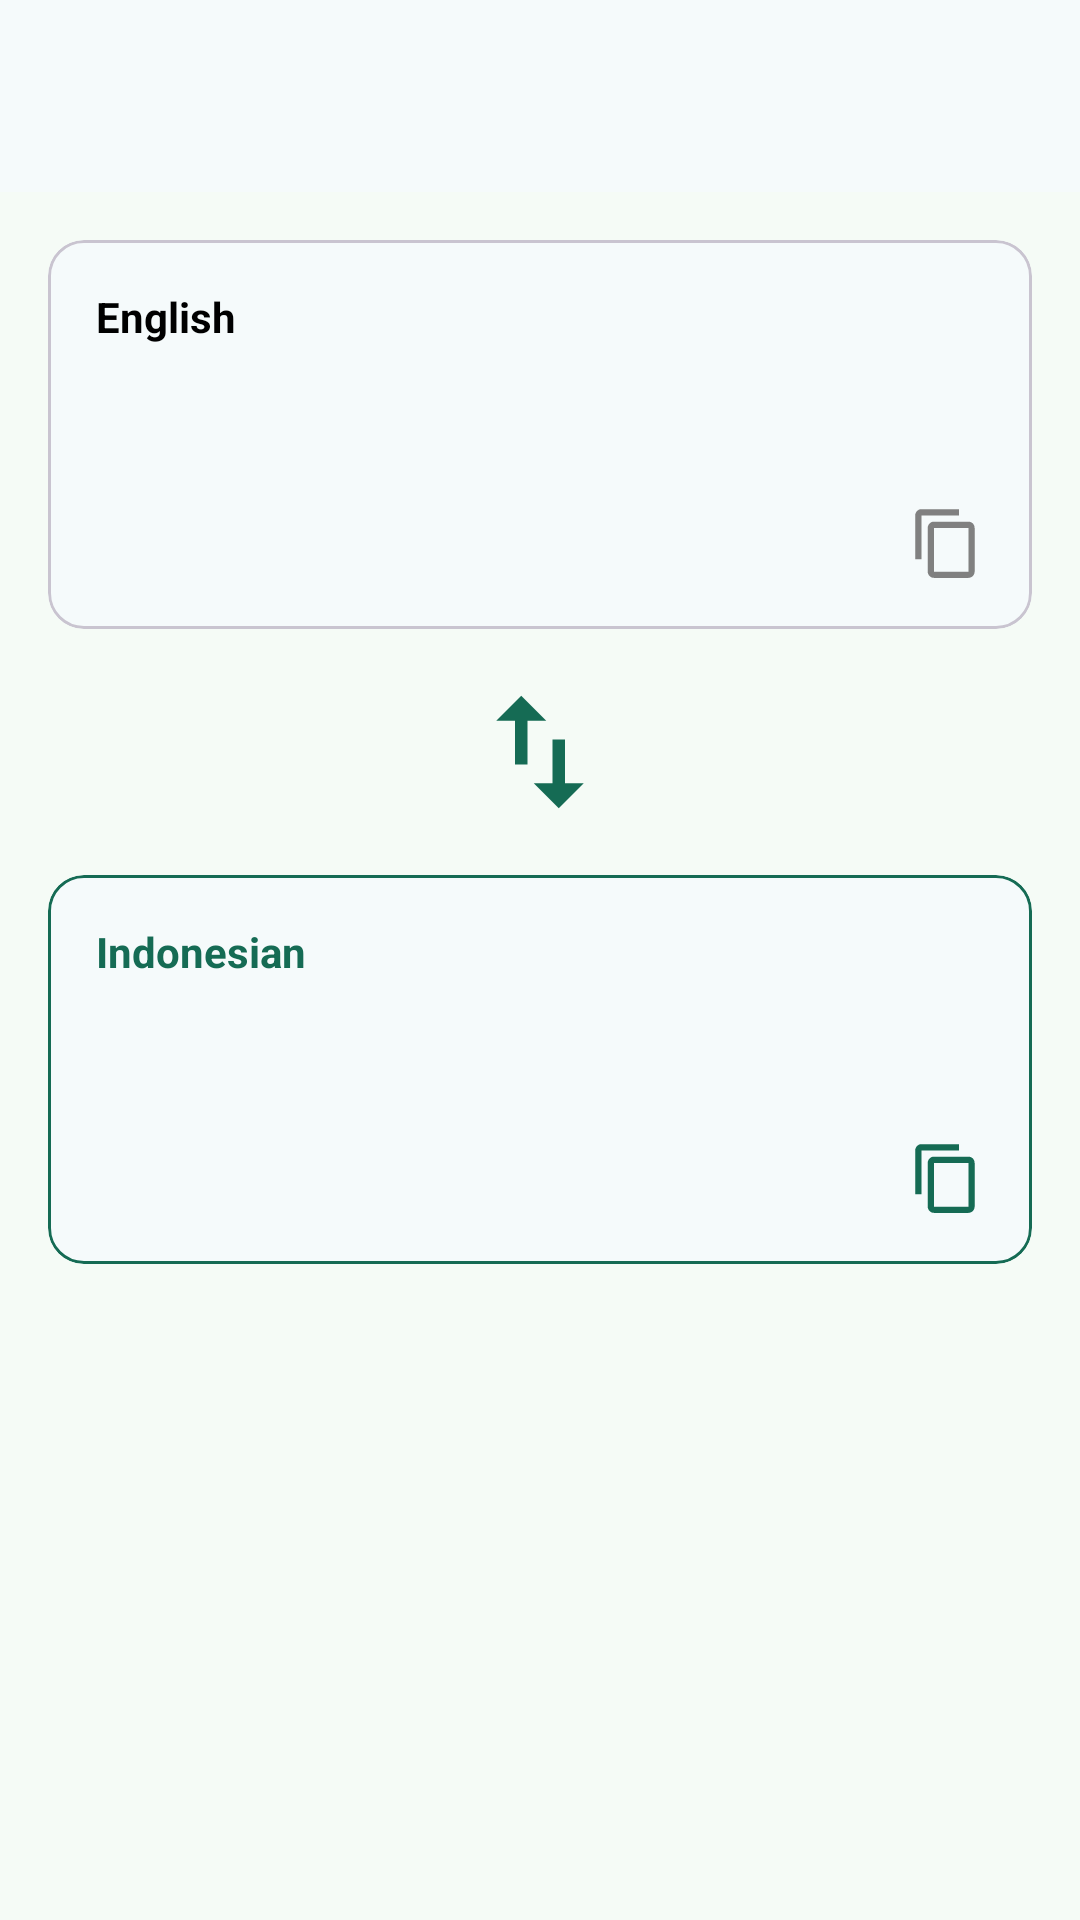

Named icons in this screenshot (1080x1920) and their bounding boxes, [x1=x1, y1=y1, x2=x2, y2=y2]:
swap vert: [x1=496, y1=696, x2=584, y2=808]
